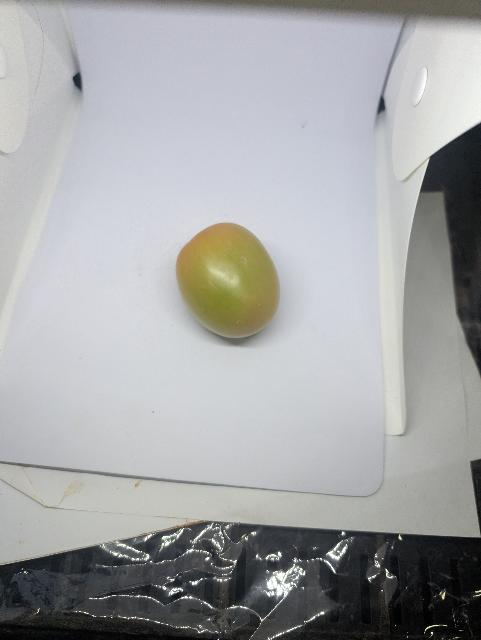breaker: (176, 223, 280, 339)
